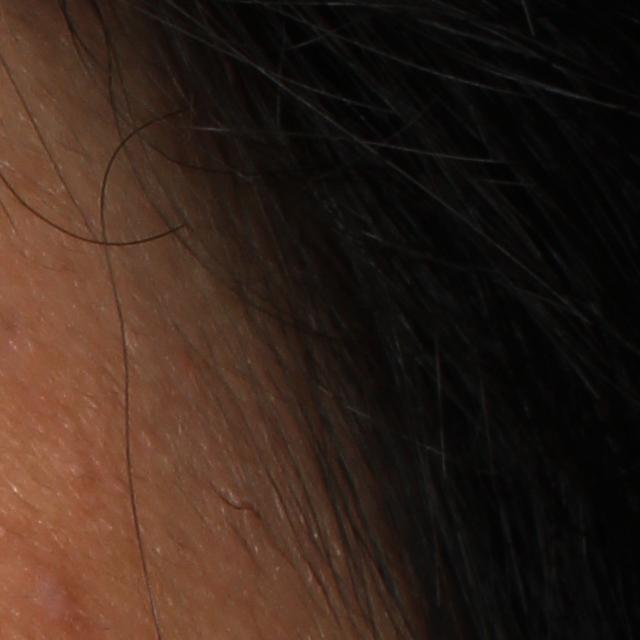papule: (32, 570, 79, 619)
